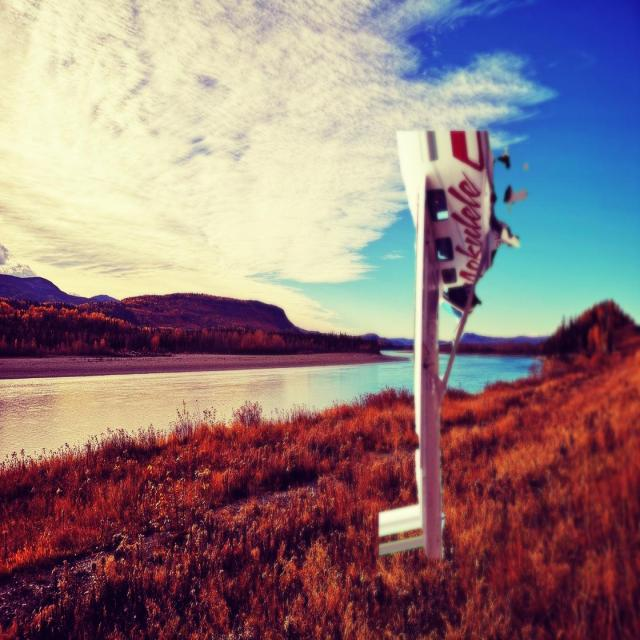airplane: (376, 127, 524, 560)
